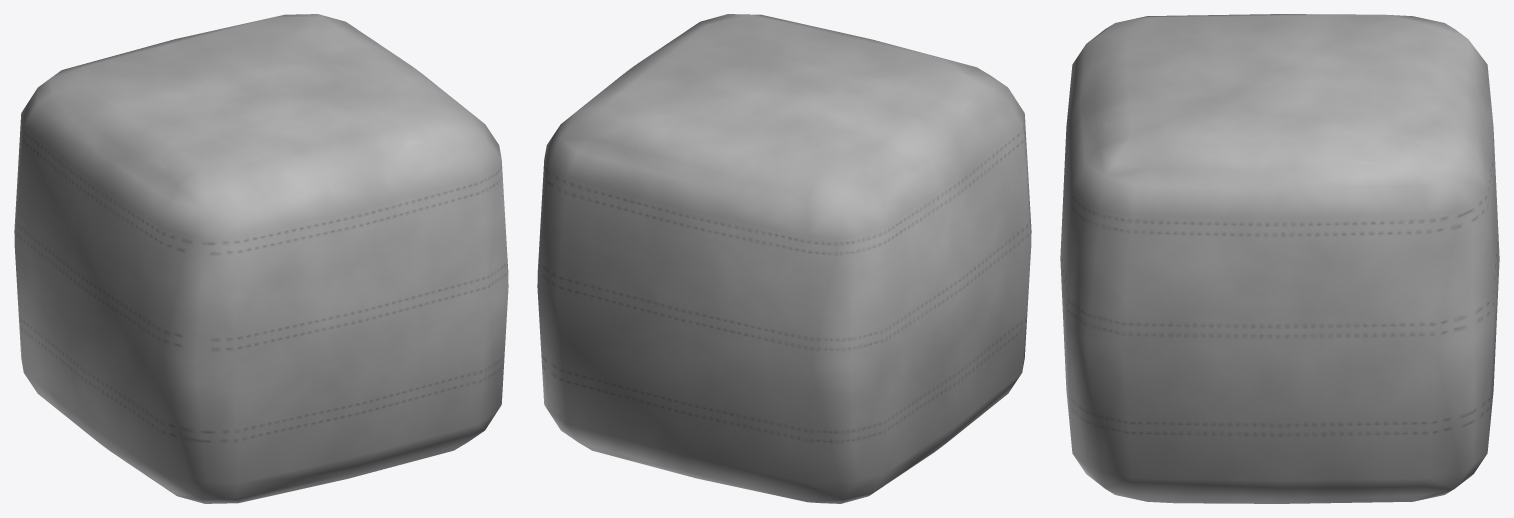
File: RightLowerArm_C1.fbx
The picture shows the model from 3 angles, left to right: view 1: azimuth 30°, elevation 25°; view 2: azimuth 150°, elevation 25°; view 3: azimuth 270°, elevation 25°; orthographic projection. The views are drawn at different scales.
Visible parts, largest first — view 1: Civ_PilotoLargo_RightLowerArm_C1; view 2: Civ_PilotoLargo_RightLowerArm_C1; view 3: Civ_PilotoLargo_RightLowerArm_C1.
Part boxes in pixels (x1,y1,x2,y2): Civ_PilotoLargo_RightLowerArm_C1: (14,14,508,503); Civ_PilotoLargo_RightLowerArm_C1: (537,14,1031,503); Civ_PilotoLargo_RightLowerArm_C1: (1060,14,1499,503).
Bounding box in the file's own units: 1.29 × 1.19 × 1.29.
